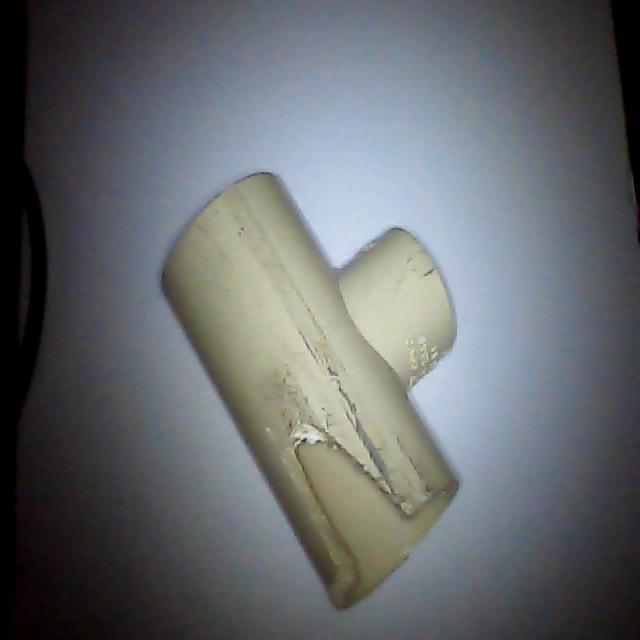Defective: (290, 444, 429, 594), (282, 425, 412, 575)
T Joint: (160, 171, 463, 611)
